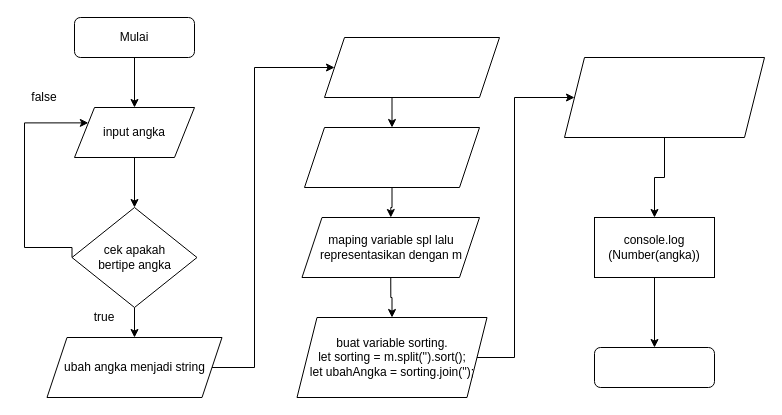
The diagram is 782 pixels wide and 415 high, and some of its shapes have lost their labels. The centre of each missing label's shape, as x and y in pixels:
"buat variable baru yang menampung nilai array kosong" belongs at pixel 392 157.
"lalu masukan nilai ubahAngka ke variable kosong. kosong+=ubahAngka;" belongs at pixel 664 97.
"lalu split angka. angka.split('0')" belongs at pixel 412 67.
"Selesai" belongs at pixel 654 367.
